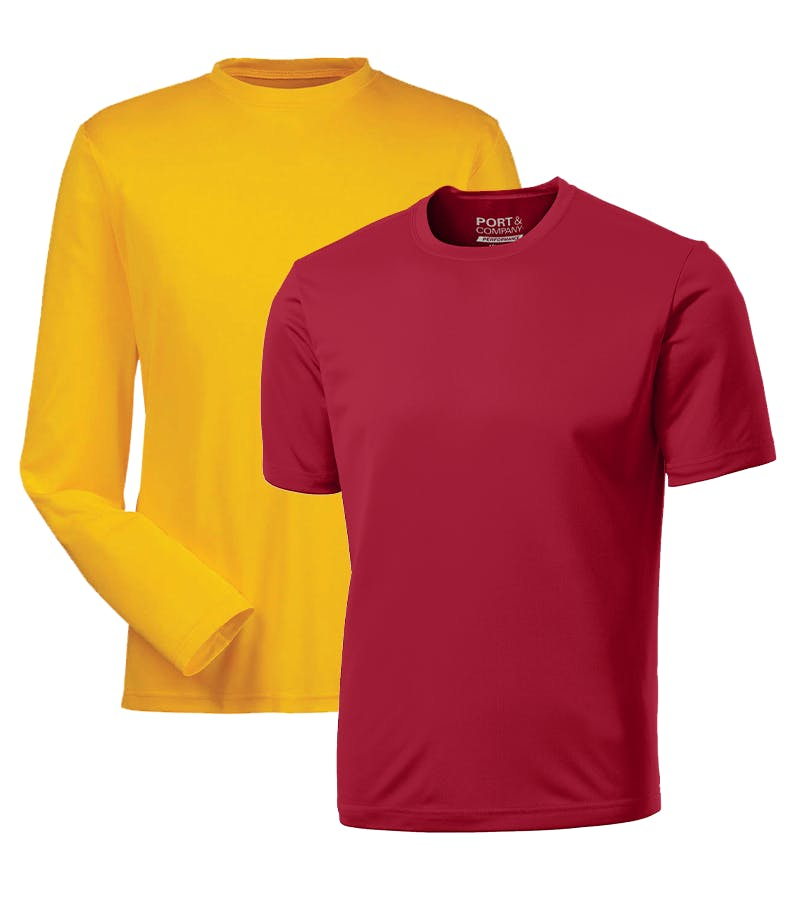long-sleeved shirt: (34, 59, 513, 714)
round-necked tshirt: (259, 184, 767, 835)
